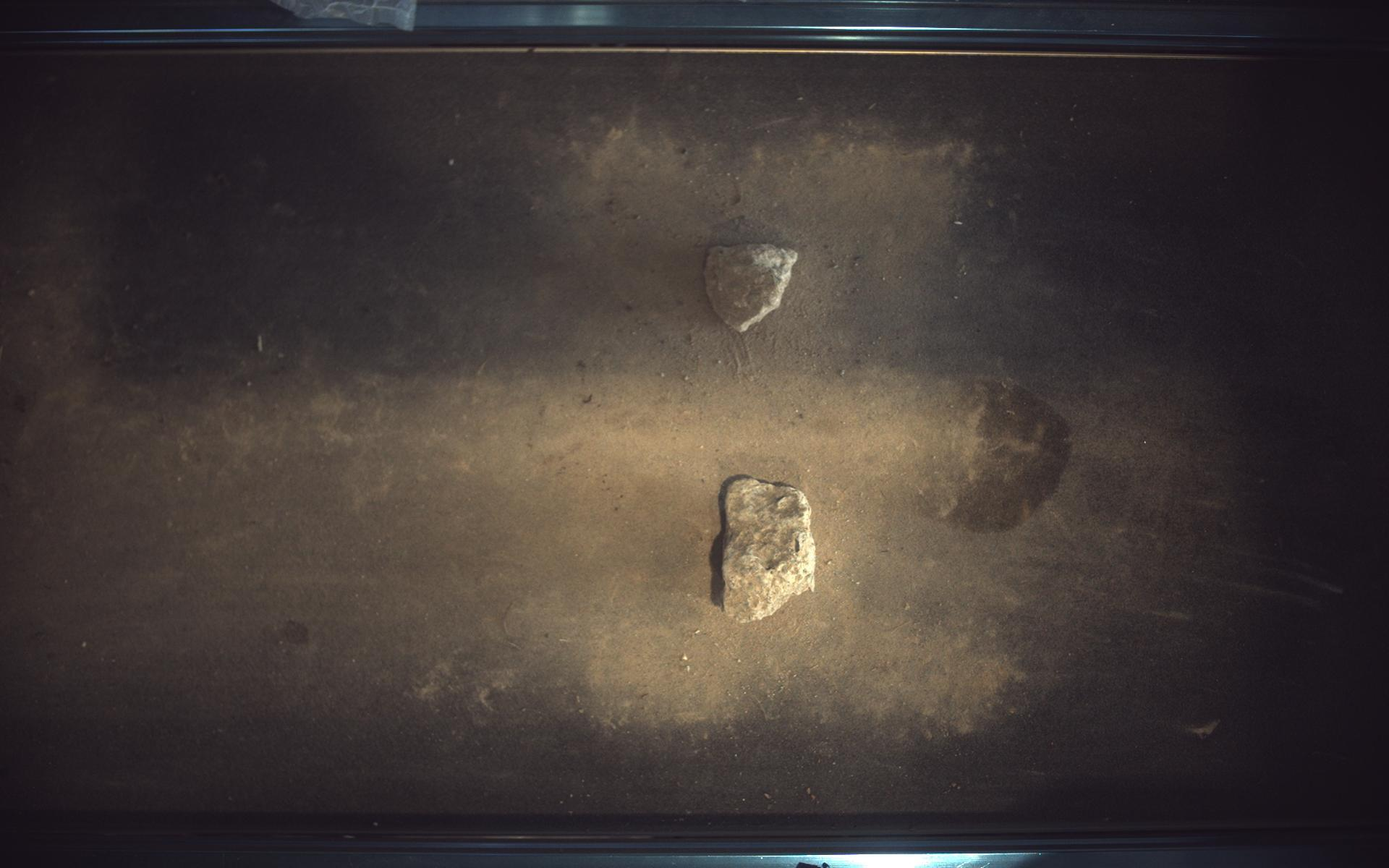stone: (723, 477, 817, 623), (705, 243, 799, 333)
